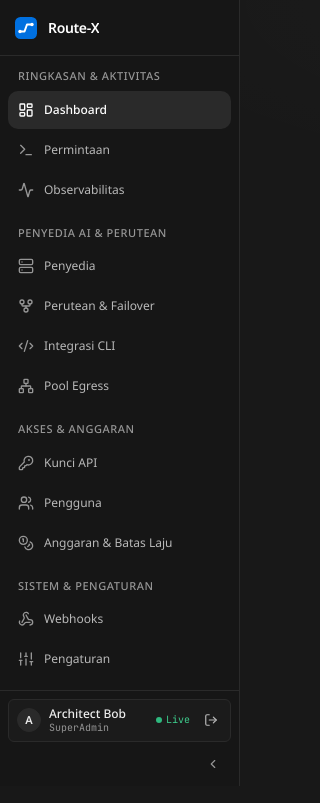
Test: Sidebar Component — Obsidian Glass SOTA 2026 › dapat menciutkan dan memperluas sidebar
The image size is (320, 803).
Click the button named "ciutkan sidebar" at [213, 764], box [199,750,227,778]
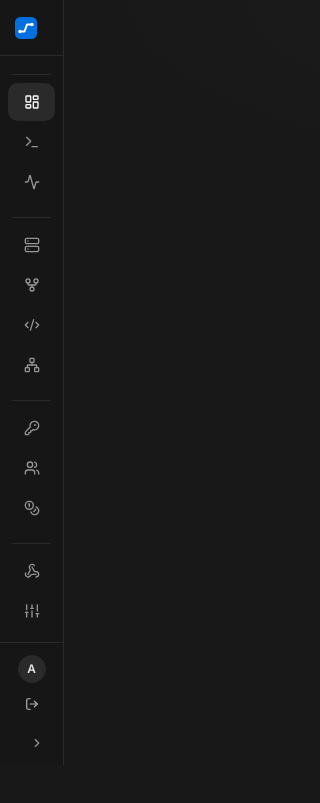
Expected: the button named "perluas sidebar" is shown, [23,729,51,757]
